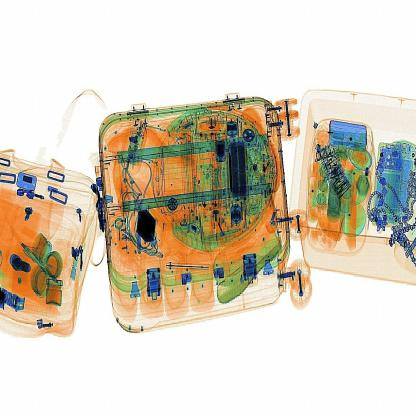wrench: (160, 256, 218, 284)
